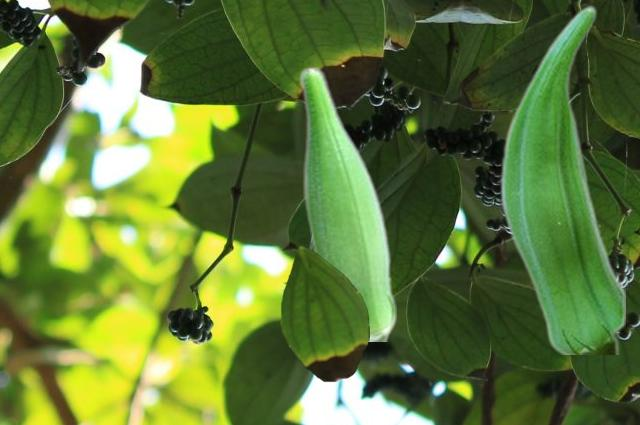okra: (499, 3, 624, 353), (298, 66, 395, 340)
